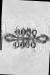V16: (3, 0, 48, 74)
